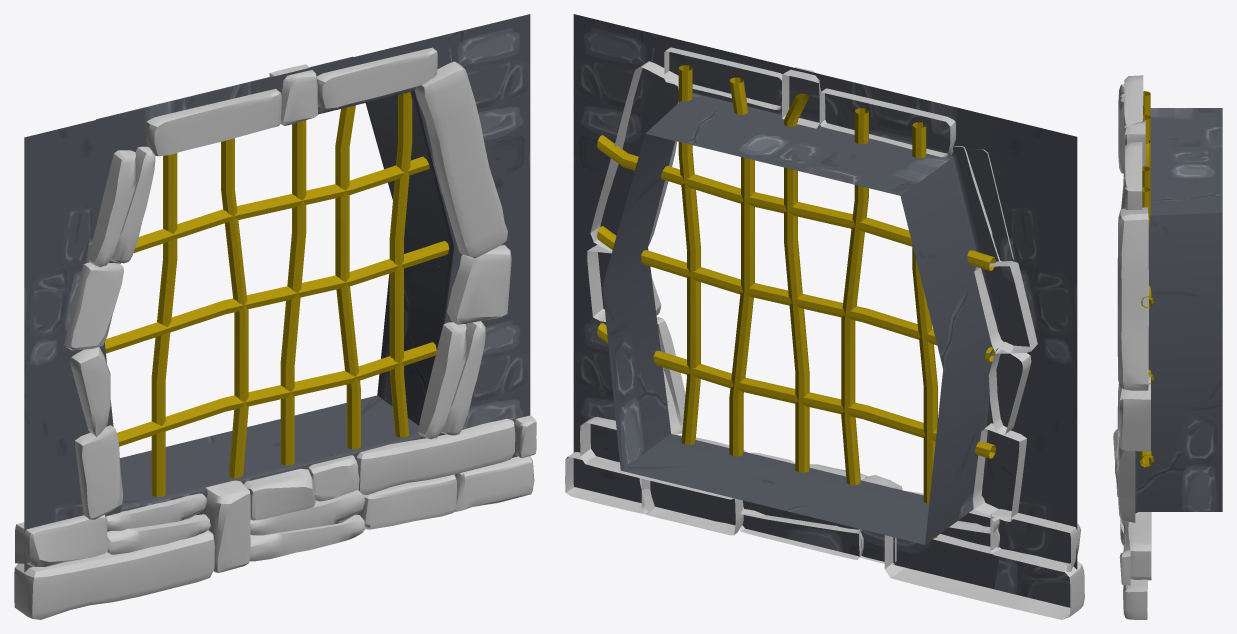
Rendered from Wall With bars.fbx.
3 renders of one model, left to right at view 1: azimuth 30°, elevation 25°; view 2: azimuth 150°, elevation 25°; view 3: azimuth 270°, elevation 25°, orthographic. The views are drawn at different scales.
Visible parts, largest first — view 1: Wall_with_bars1; view 2: Wall_with_bars1; view 3: Wall_with_bars1.
Boxes of the visible parts, box(x1,y1,x2,y2) form: Wall_with_bars1: box(14, 14, 536, 619); Wall_with_bars1: box(565, 14, 1084, 619); Wall_with_bars1: box(1113, 75, 1222, 619).
Size of the model in its own units: 14.06 by 12.72 by 3.12.
